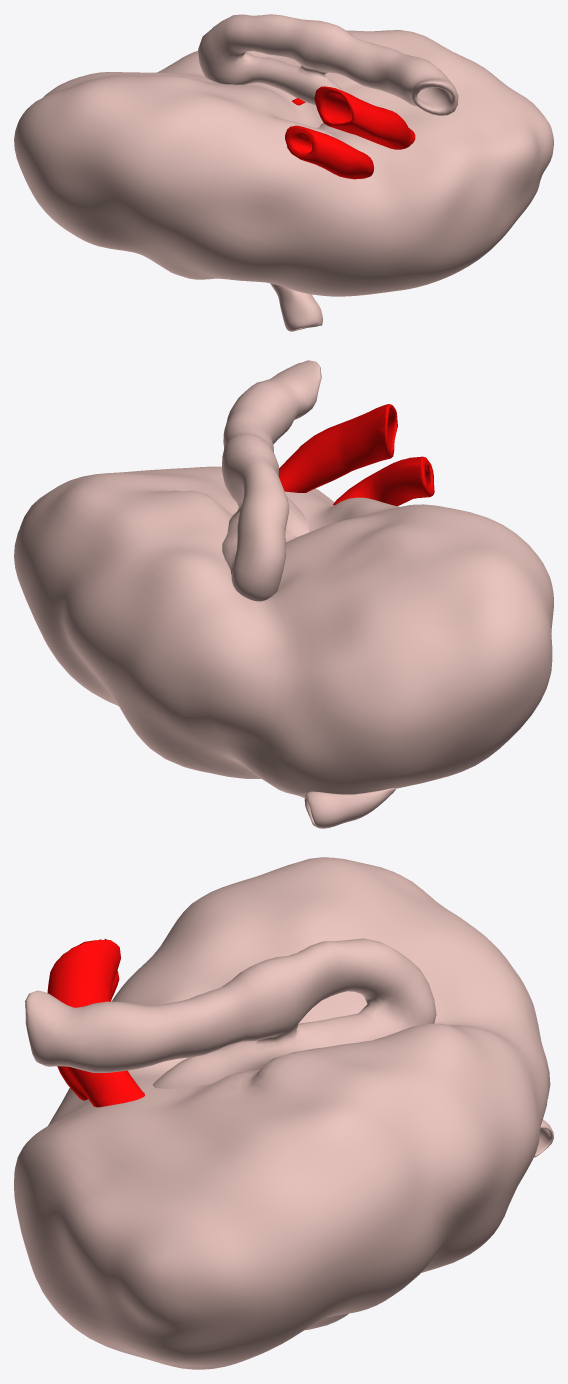
The model's file is lymph-node.glb.
The picture shows the model from 3 angles, top to bottom: view 1: azimuth 30°, elevation 25°; view 2: azimuth 150°, elevation 25°; view 3: azimuth 270°, elevation 25°; orthographic projection. The views are drawn at different scales.
Parts seen in each view (by area): view 1: Yao_capsule_of_lymph_node, Yao_efferent_lymph_node, Yao_blood_vasculature, Yao_afferent_lymphatic_vessel; view 2: Yao_capsule_of_lymph_node, Yao_efferent_lymph_node, Yao_blood_vasculature, Yao_afferent_lymphatic_vessel; view 3: Yao_capsule_of_lymph_node, Yao_efferent_lymph_node, Yao_blood_vasculature.
Boxes of the visible parts, x1,y1,x2,y2 form: Yao_capsule_of_lymph_node: (14, 30, 553, 296); Yao_efferent_lymph_node: (198, 14, 458, 132); Yao_blood_vasculature: (285, 86, 415, 179); Yao_afferent_lymphatic_vessel: (270, 283, 322, 331); Yao_capsule_of_lymph_node: (14, 466, 553, 797); Yao_efferent_lymph_node: (222, 360, 321, 601); Yao_blood_vasculature: (279, 404, 434, 506); Yao_afferent_lymphatic_vessel: (304, 788, 396, 828); Yao_capsule_of_lymph_node: (14, 857, 550, 1369); Yao_efferent_lymph_node: (25, 938, 436, 1088); Yao_blood_vasculature: (47, 939, 144, 1107).
Size of the model in its own units: 0.0183 by 0.0107 by 0.013.
